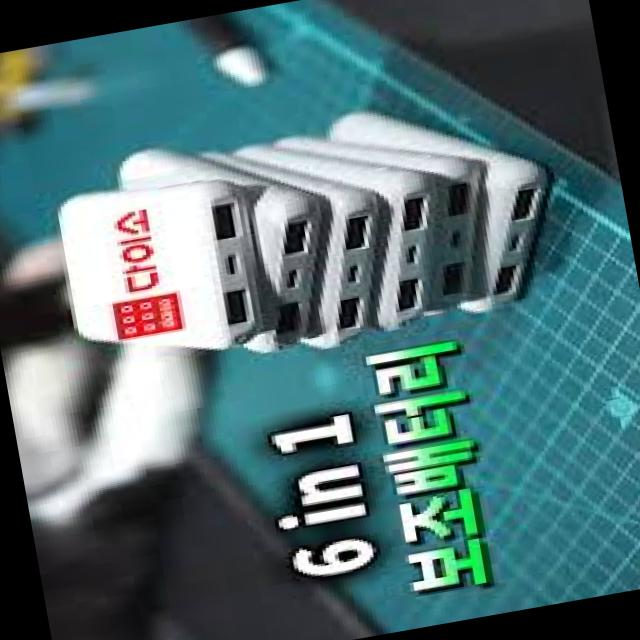power_bank: (313, 76, 581, 328), (109, 120, 346, 372), (49, 166, 274, 372), (284, 109, 501, 322), (278, 106, 466, 336), (228, 117, 404, 356)
